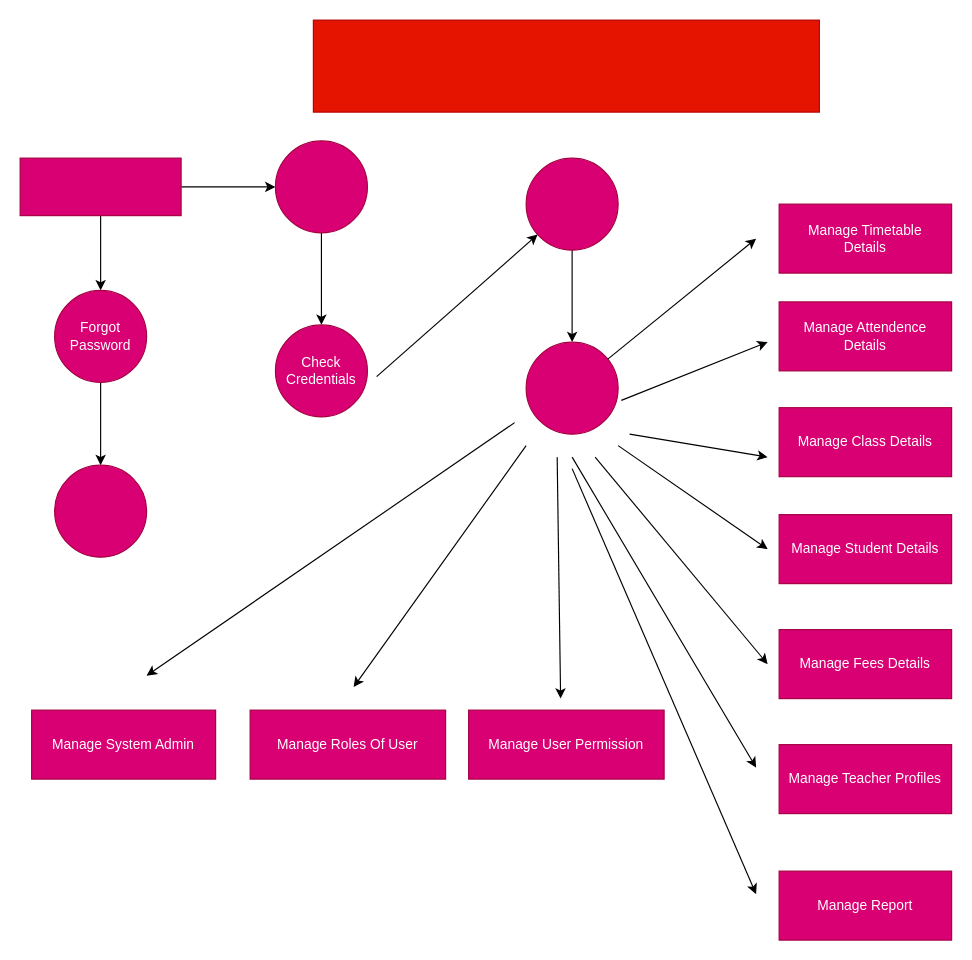
This 972x960 diagram has some shape labels left out. The shapes that lost their labels are listed below. From the top down, each one's box as (x1, y1, x2, y2) in pixels, then its label:
(312, 19, 819, 112): Student Information System
(19, 157, 181, 216): Admin
(274, 140, 367, 233): Login to System
(525, 157, 618, 250): Check Roles Of Access
(525, 341, 618, 434): Manage Modules
(53, 464, 147, 557): Send Email To User
